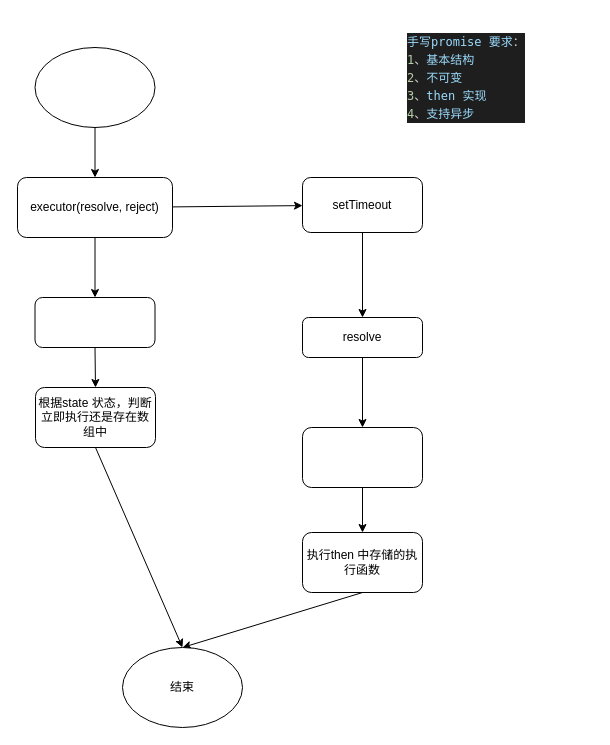
This 610x745 diagram has some shape labels left out. Each missing label, with the centre of its shape:
"state 状态发生变化" goes at point (362, 457).
"then" goes at point (94, 322).
"构造函数" goes at point (94, 87).
